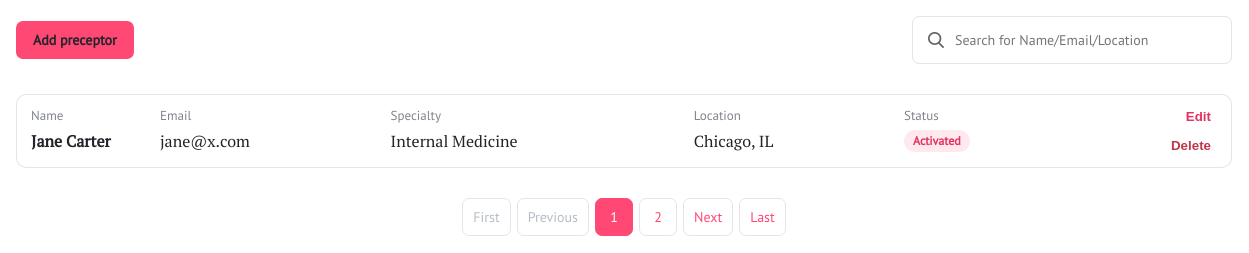
Scenario: PreceptorsPage › pages server-side: clicking Next requests page 2
Expected: the text "Jane Carter" is shown, x1=31 y1=130 x2=111 y2=152
Click the button "Next": (708, 217) x1=683 y1=198 x2=733 y2=236
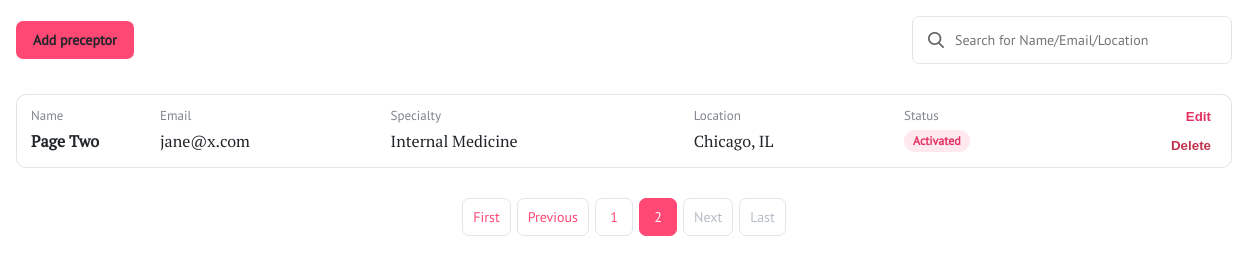
Now the text "Page Two" is shown, box x1=31 y1=130 x2=99 y2=152
